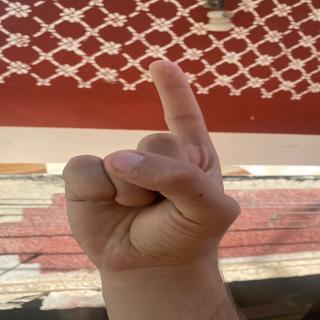BAA: (60, 53, 242, 272)
